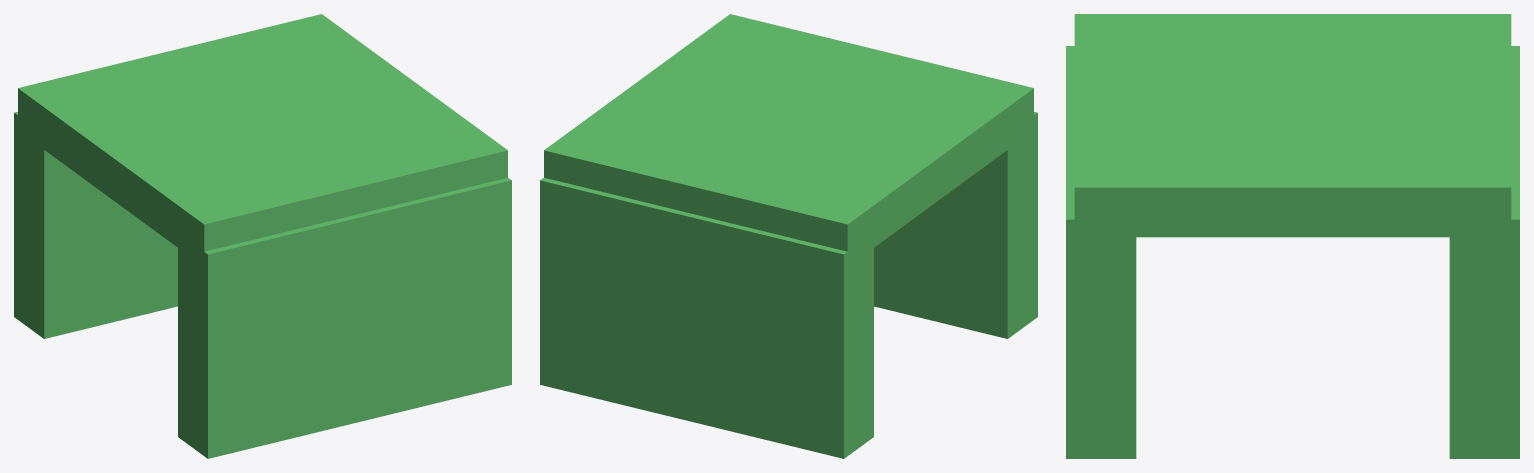
File: bridge_arch_support_collision.glb
3 renders of one model, left to right at view 1: azimuth 30°, elevation 25°; view 2: azimuth 150°, elevation 25°; view 3: azimuth 270°, elevation 25°, orthographic. The views are drawn at different scales.
Parts seen in each view (by area): view 1: bridge_arch_support_bearing_saddle-col, bridge_arch_support_south_abutment-col, bridge_arch_support_north_abutment-col; view 2: bridge_arch_support_bearing_saddle-col, bridge_arch_support_north_abutment-col, bridge_arch_support_south_abutment-col; view 3: bridge_arch_support_bearing_saddle-col, bridge_arch_support_south_abutment-col, bridge_arch_support_north_abutment-col.
Boxes of the visible parts, x1,y1,x2,y2 form: bridge_arch_support_bearing_saddle-col: (18, 14, 507, 266); bridge_arch_support_south_abutment-col: (178, 177, 511, 458); bridge_arch_support_north_abutment-col: (14, 112, 177, 338); bridge_arch_support_bearing_saddle-col: (544, 14, 1033, 266); bridge_arch_support_north_abutment-col: (540, 177, 873, 458); bridge_arch_support_south_abutment-col: (874, 112, 1037, 338); bridge_arch_support_bearing_saddle-col: (1074, 14, 1511, 237); bridge_arch_support_south_abutment-col: (1066, 46, 1136, 458); bridge_arch_support_north_abutment-col: (1449, 46, 1519, 458).
Bounding box in the file's own units: 4.2 × 3.06 × 4.64.
